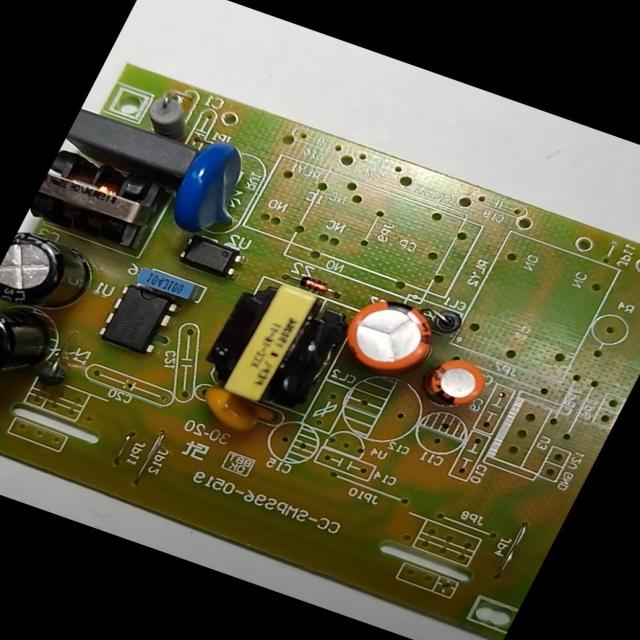Cap1: (332, 292, 442, 382)
Cap2: (422, 351, 492, 411)
Cap3: (0, 229, 105, 325)
Cap4: (0, 296, 67, 404)
MOSFET: (95, 282, 179, 356)
Mov: (160, 131, 266, 244)
Resistor: (141, 90, 201, 141)
Transformer: (192, 273, 357, 419), (25, 144, 174, 255)
